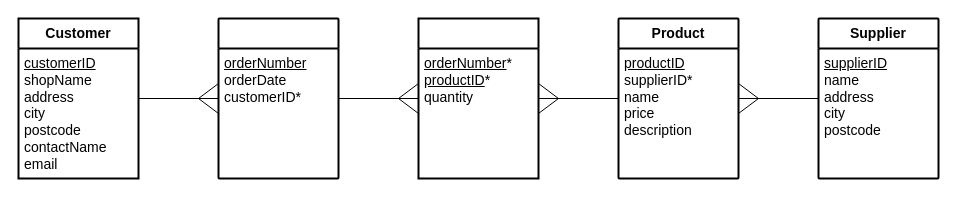
This 956x204 diagram has some shape labels left out. The shapes that lost their labels are listed below. From the top down, each one's box as (x1, y1, x2, y2) in pixels, then its label:
(217, 17, 339, 179): CustomerOrder
(417, 17, 539, 179): OrderProduct
